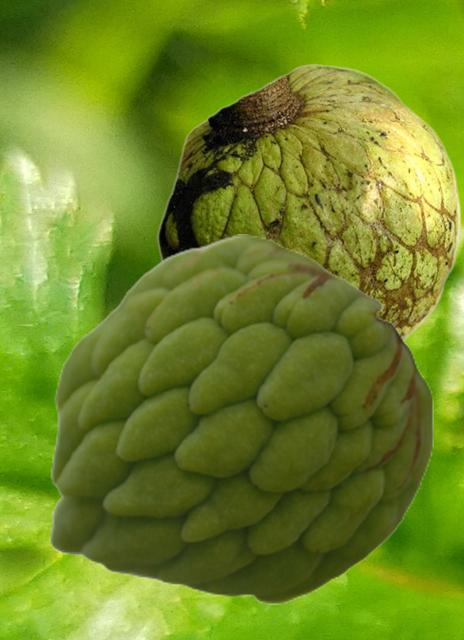atis: (49, 234, 432, 603), (156, 63, 460, 340)
